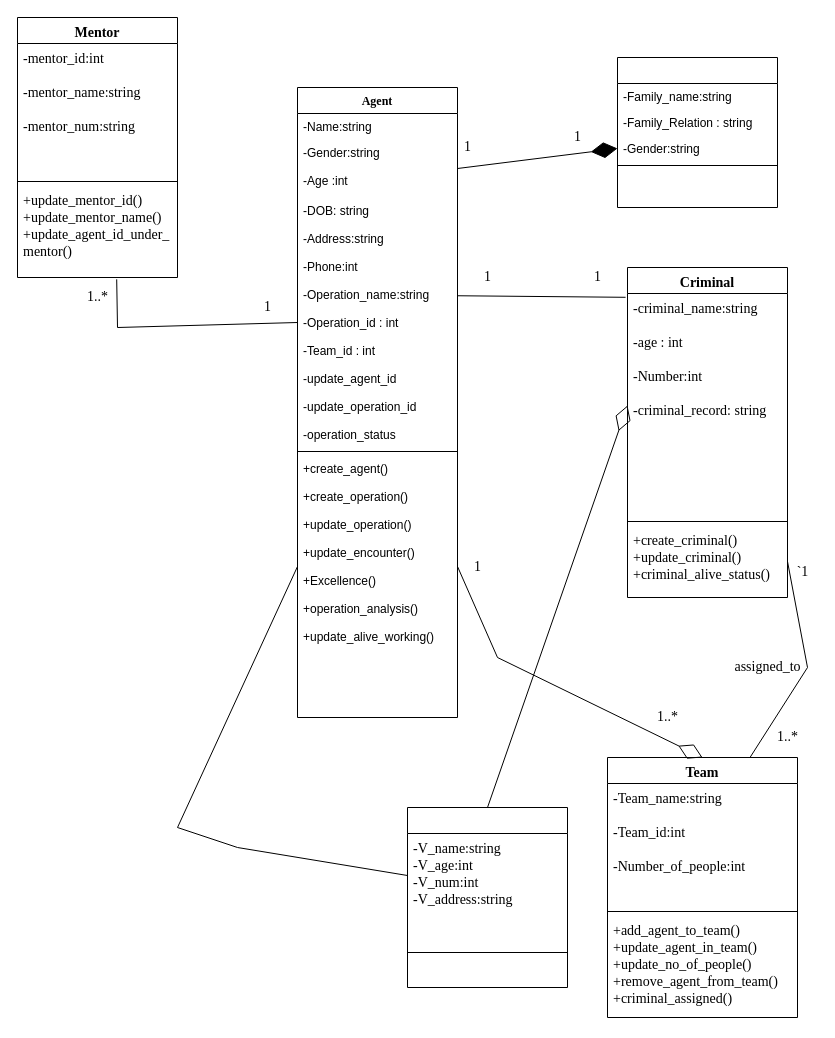
The diagram is 835 pixels wide and 1038 high, and some of its shapes have lost their labels. Here are the shapes that lost their labels. From the top down, the box of each, then its label:
(616, 56, 778, 208): Agent_Family
(406, 806, 568, 988): Victim
